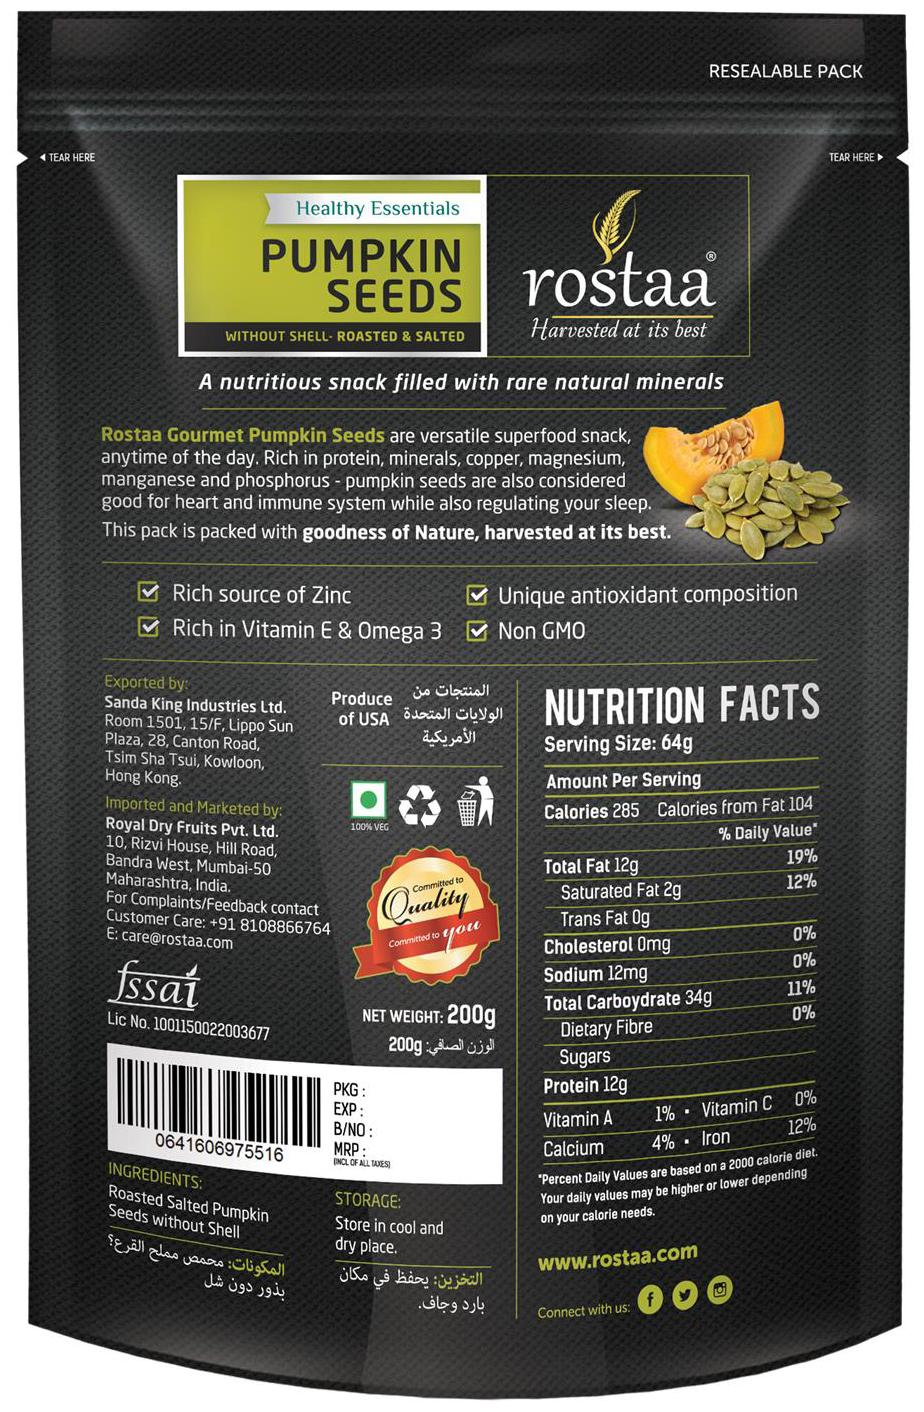fssai: (106, 957, 200, 1010)
